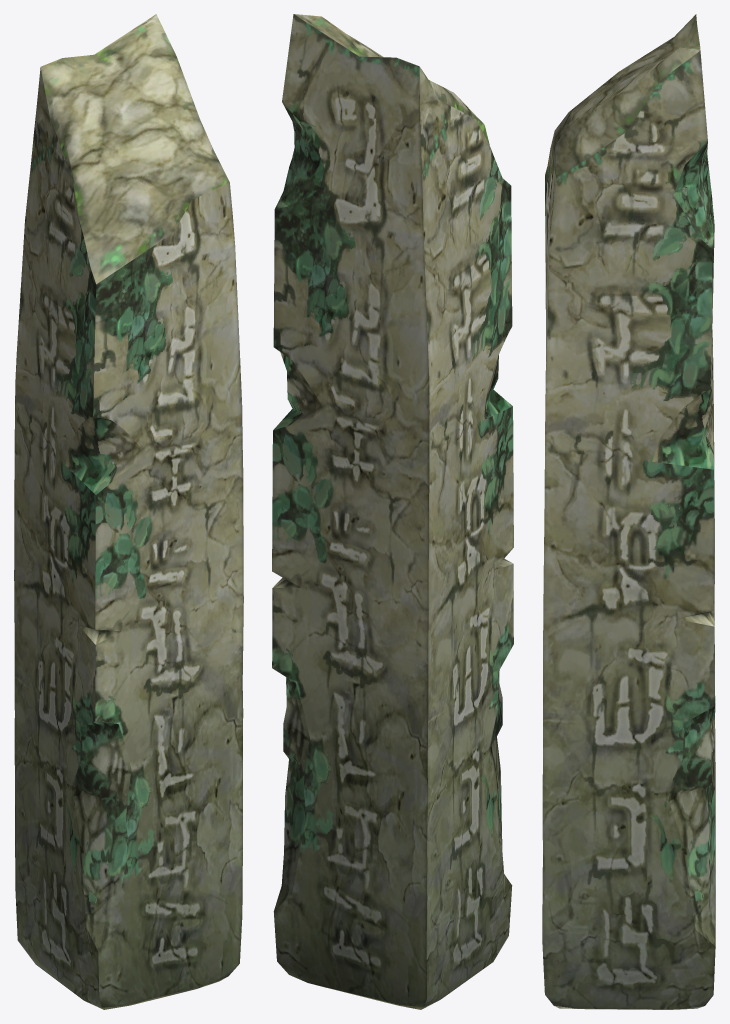
The model's file is dro_ruins_pillar02.glb.
3 views of the same model, side by side, from view 1: azimuth 30°, elevation 25°; view 2: azimuth 150°, elevation 25°; view 3: azimuth 270°, elevation 25° (orthographic). The views are drawn at different scales.
Visible parts, largest first — view 1: dro_ruins_pillar02; view 2: dro_ruins_pillar02; view 3: dro_ruins_pillar02.
Part boxes in pixels (left/top/right/bottom): dro_ruins_pillar02: left=14, top=14, right=243, bottom=1009; dro_ruins_pillar02: left=272, top=14, right=513, bottom=1009; dro_ruins_pillar02: left=542, top=14, right=715, bottom=1009.
Size of the model in its own units: 0.4041 by 2.36 by 0.3863.
1 material, 1 textured.
